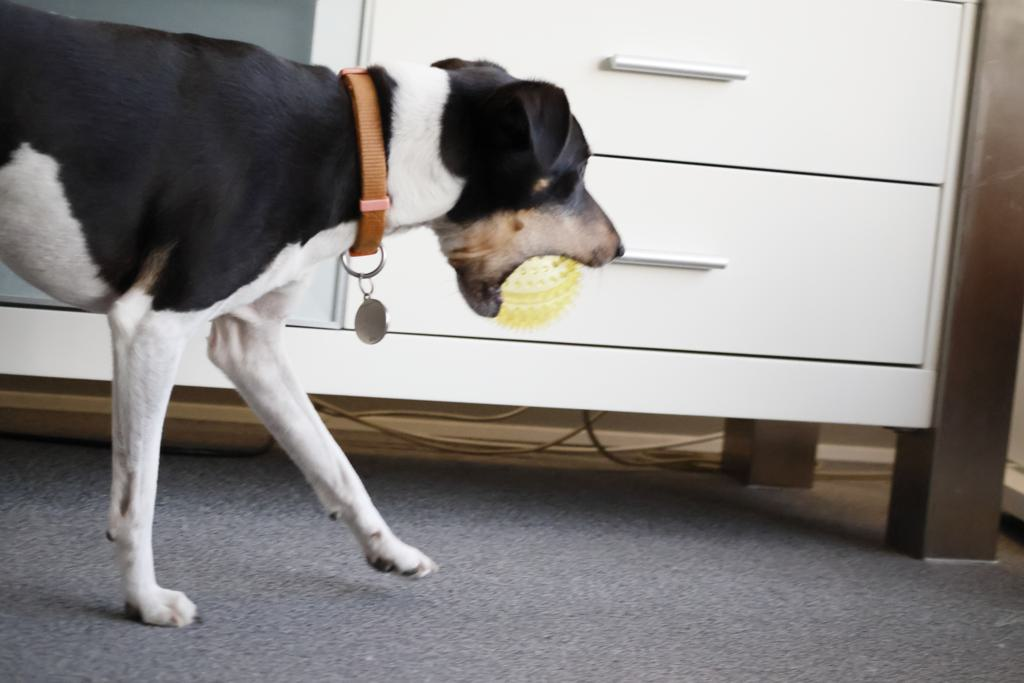Dog: (0, 0, 634, 639)
